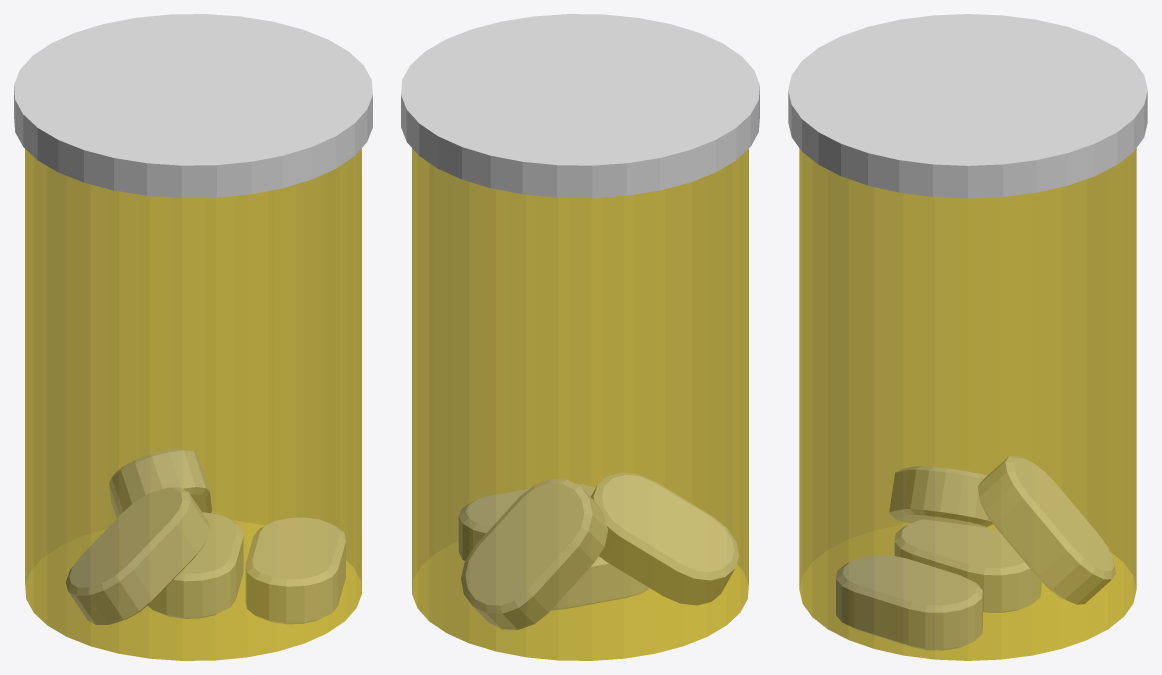
The model's file is pillbox with pills (3).fbx.
The picture shows the model from 3 angles, left to right: view 1: azimuth 30°, elevation 25°; view 2: azimuth 150°, elevation 25°; view 3: azimuth 270°, elevation 25°; orthographic projection.
Visible parts, largest first — view 1: Circle, Circle.001, Cube.002, Cube.001, Cube, Cube.003; view 2: Circle, Circle.001, Cube.003, Cube.002, Cube, Cube.001; view 3: Circle, Circle.001, Cube.003, Cube.001, Cube, Cube.002.
Boxes of the visible parts, x1=… form: Circle: x1=25, y1=148, x2=361, y2=660; Circle.001: x1=14, y1=14, x2=372, y2=198; Cube.002: x1=66, y1=487, x2=210, y2=624; Cube.001: x1=245, y1=517, x2=345, y2=624; Cube: x1=148, y1=512, x2=243, y2=618; Cube.003: x1=109, y1=449, x2=211, y2=517; Circle: x1=412, y1=148, x2=748, y2=660; Circle.001: x1=401, y1=14, x2=759, y2=198; Cube.003: x1=461, y1=479, x2=607, y2=629; Cube.002: x1=591, y1=472, x2=738, y2=605; Cube: x1=552, y1=556, x2=649, y2=610; Cube.001: x1=458, y1=484, x2=595, y2=560; Circle: x1=799, y1=148, x2=1136, y2=660; Circle.001: x1=788, y1=14, x2=1147, y2=198; Cube.003: x1=978, y1=456, x2=1115, y2=604; Cube.001: x1=836, y1=555, x2=982, y2=650; Cube: x1=894, y1=519, x2=1041, y2=612; Cube.002: x1=889, y1=466, x2=992, y2=527.
Size of the model in its own units: 11.56 by 17.73 by 11.56.
